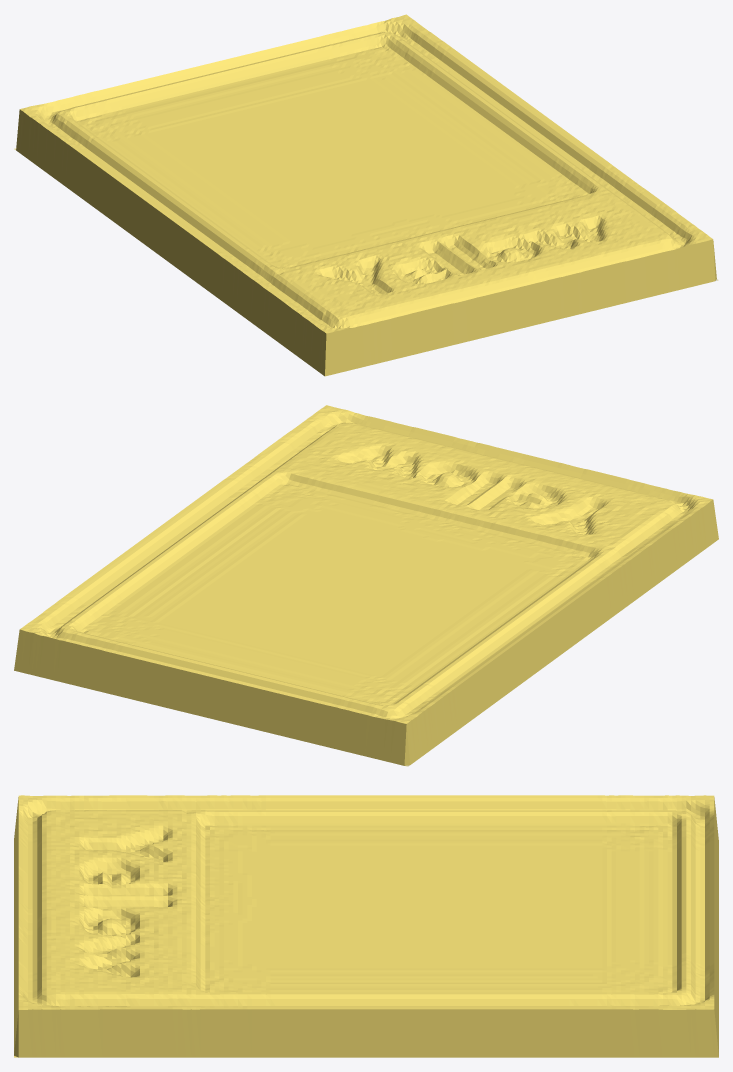
The picture shows the model from 3 angles, top to bottom: view 1: azimuth 30°, elevation 25°; view 2: azimuth 150°, elevation 25°; view 3: azimuth 270°, elevation 25°; orthographic projection. The views are drawn at different scales.
Visible parts, largest first — view 1: imagetostl_mesh0; view 2: imagetostl_mesh0; view 3: imagetostl_mesh0.
Boxes of the visible parts, x1,y1,x2,y2 form: imagetostl_mesh0: (14, 14, 717, 376); imagetostl_mesh0: (14, 405, 718, 766); imagetostl_mesh0: (14, 795, 718, 1057).
Bounding box in the file's own units: 2563 × 254 × 3503.
